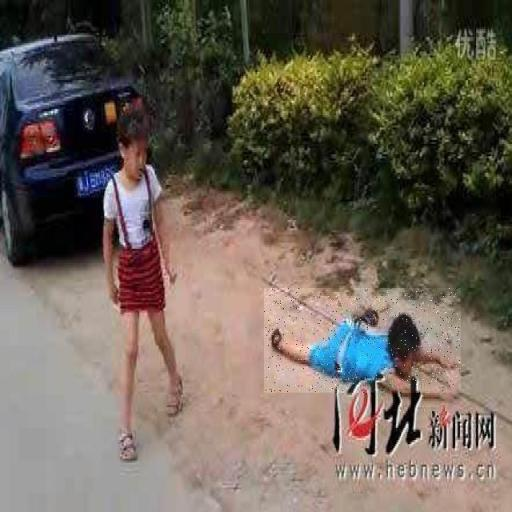Fall: (264, 288, 461, 393)
